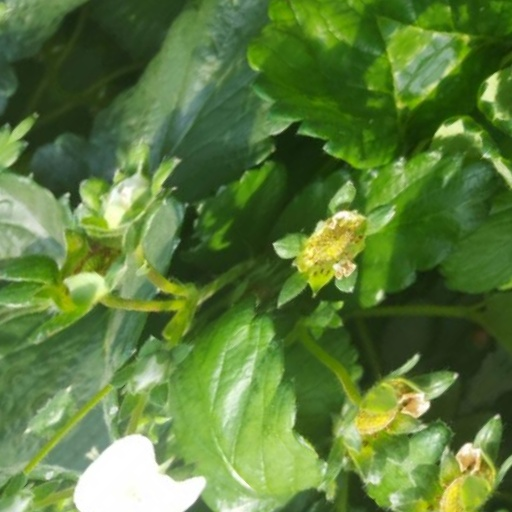Blossom Blight: (278, 278, 337, 359)
